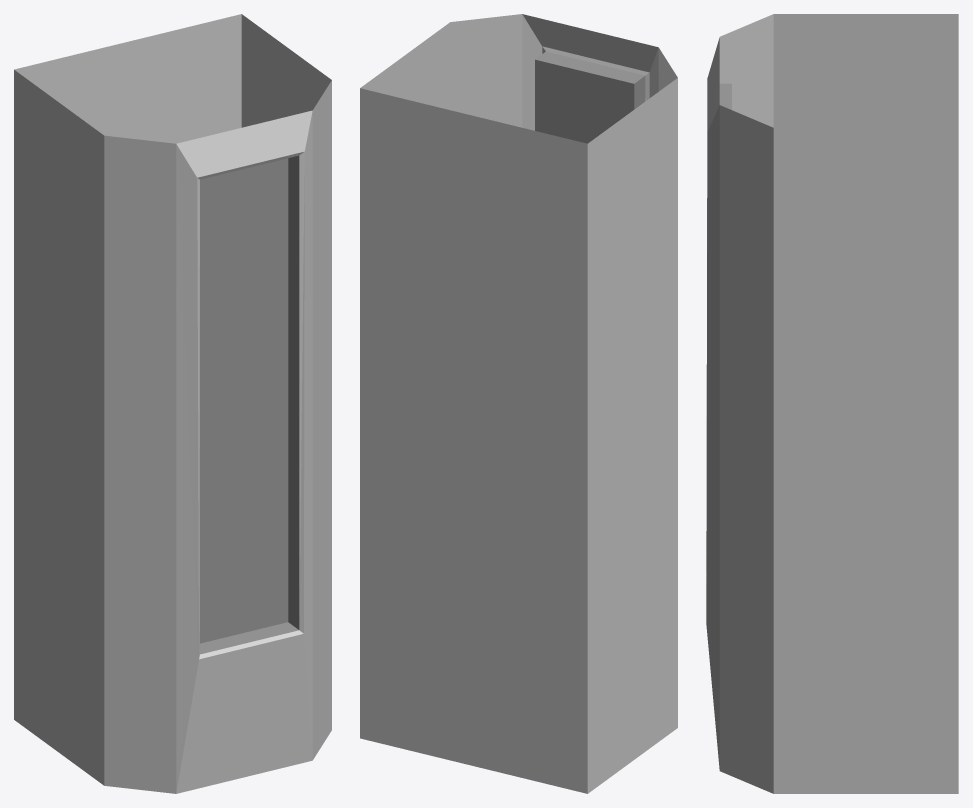
Rendered from control_shield.FBX.
The picture shows the model from 3 angles, left to right: view 1: azimuth 30°, elevation 25°; view 2: azimuth 150°, elevation 25°; view 3: azimuth 270°, elevation 25°; orthographic projection. The views are drawn at different scales.
Parts seen in each view (by area): view 1: control_shield; view 2: control_shield; view 3: control_shield.
Boxes of the visible parts, box(x1,y1,x2,y2) form: control_shield: box(14, 14, 331, 793); control_shield: box(360, 14, 677, 793); control_shield: box(706, 14, 958, 793).
Bounding box in the file's own units: 65.77 × 179 × 61.57.
